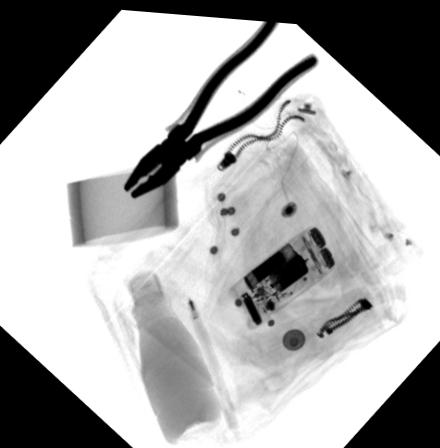Pliers: (120, 17, 317, 198)
